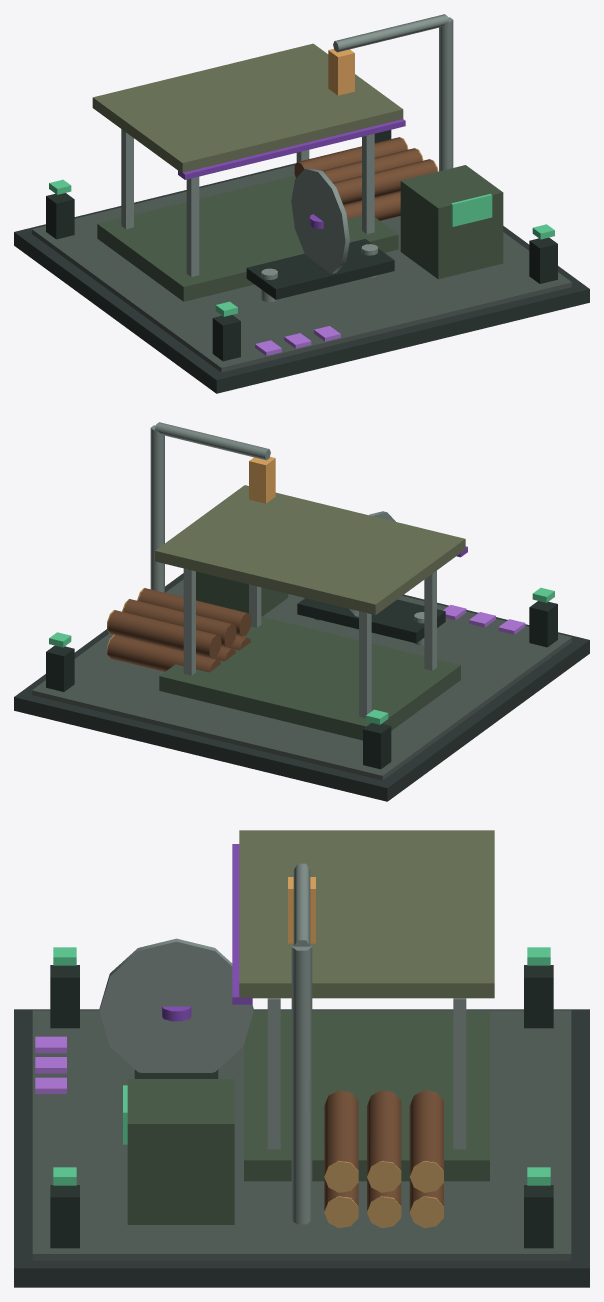
File: timberline_l03.glb
The picture shows the model from 3 angles, top to bottom: view 1: azimuth 30°, elevation 25°; view 2: azimuth 150°, elevation 25°; view 3: azimuth 270°, elevation 25°; orthographic projection. The views are drawn at different scales.
Visible parts, largest first — view 1: timberline_l03; view 2: timberline_l03; view 3: timberline_l03.
Boxes of the visible parts, left/top/right/bottom form: timberline_l03: left=14, top=14, right=589, bottom=393; timberline_l03: left=14, top=422, right=589, bottom=801; timberline_l03: left=14, top=830, right=589, bottom=1287.
Bounding box in the file's own units: 6.6 × 3.78 × 6.2.
